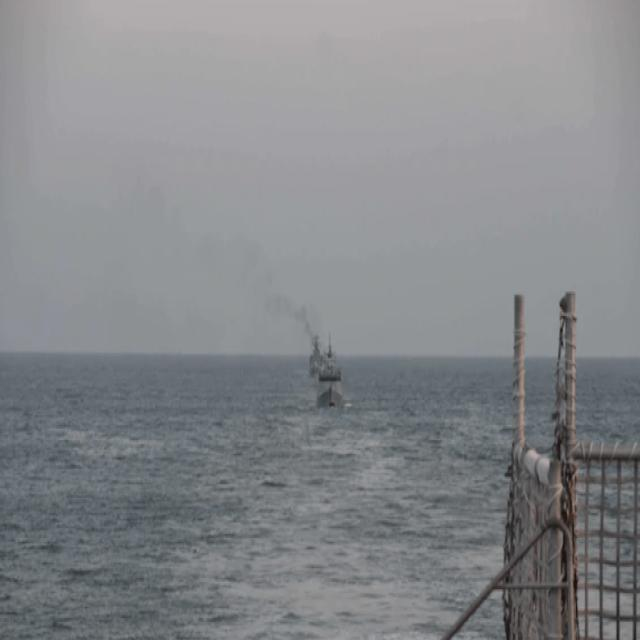navalvessels: (315, 328, 346, 415), (305, 327, 325, 380)
